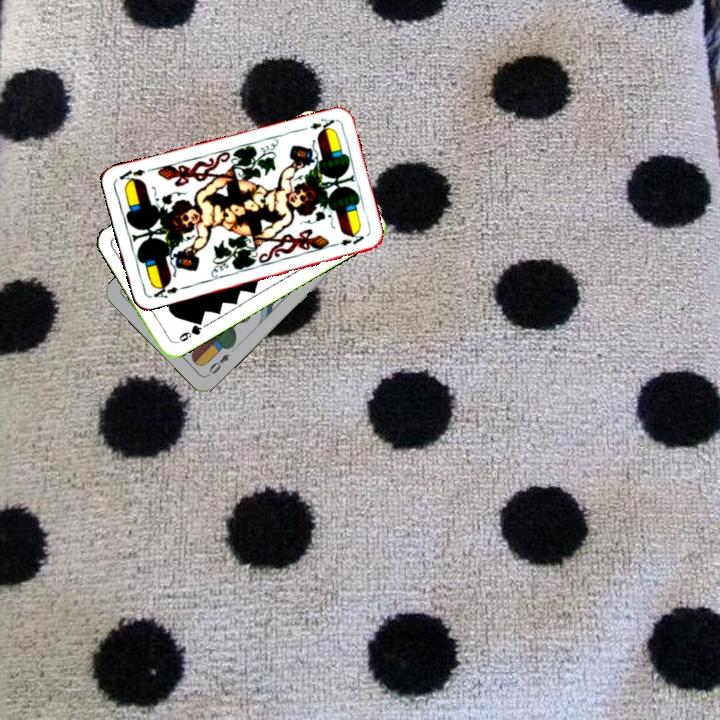EA: (149, 279, 181, 301), (306, 114, 337, 135)
EO: (203, 350, 232, 379)
G9: (171, 316, 205, 346)
